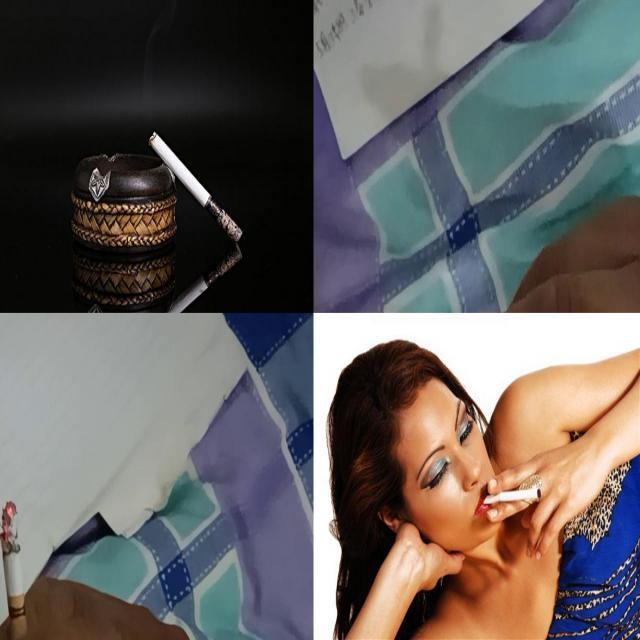cigarette: (146, 126, 245, 245), (148, 246, 250, 312), (0, 499, 30, 639), (483, 487, 541, 502)
